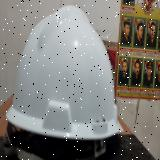Helmet: (6, 5, 124, 139)
